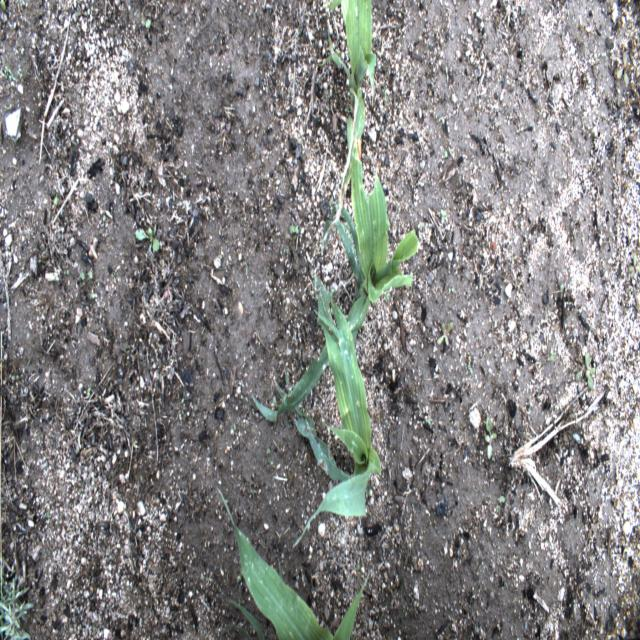crop: (253, 111, 419, 422), (275, 274, 381, 548), (217, 488, 371, 639), (320, 0, 376, 218), (227, 599, 264, 639), (230, 624, 252, 638)
weed: (0, 562, 34, 640), (575, 352, 596, 390), (134, 223, 159, 250), (485, 416, 497, 460), (437, 321, 454, 346), (616, 50, 628, 85), (628, 254, 640, 278), (154, 358, 163, 383), (80, 270, 94, 280), (496, 495, 504, 511), (289, 223, 300, 234), (52, 188, 59, 204), (440, 209, 448, 222), (444, 146, 452, 158), (546, 352, 556, 361), (266, 448, 271, 465), (229, 424, 236, 436), (180, 390, 185, 405), (100, 215, 106, 227), (145, 18, 151, 29), (9, 71, 15, 82), (0, 0, 5, 12), (5, 66, 11, 76), (12, 375, 20, 381), (87, 386, 90, 400), (446, 65, 448, 84), (17, 72, 23, 78), (4, 70, 7, 79), (4, 106, 8, 109)
